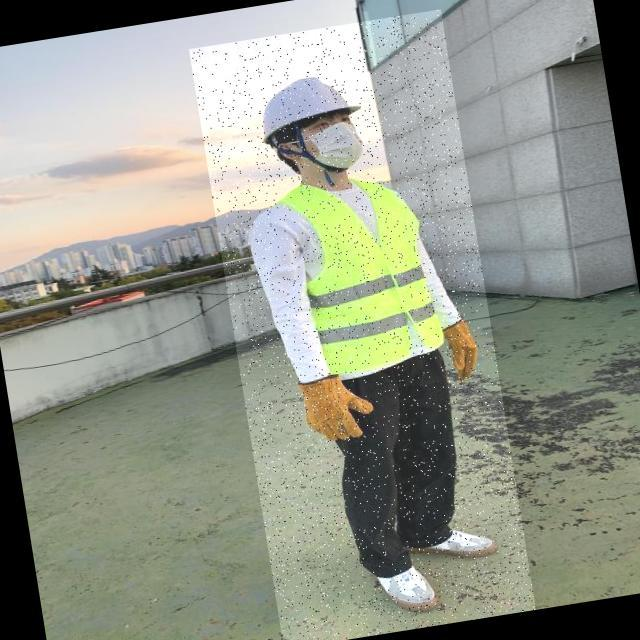Gloves: (297, 372, 383, 452), (439, 320, 481, 393)
Helmet: (256, 70, 365, 146)
Person: (235, 49, 515, 631)
Safety Boot: (401, 524, 499, 570), (373, 562, 443, 619)
Safety Vest: (273, 168, 447, 381)
